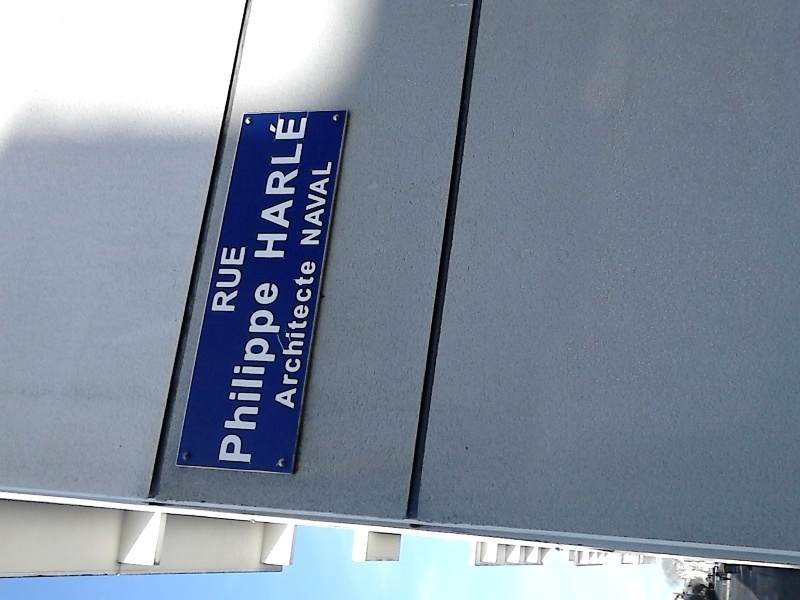text: (273, 280, 289, 466), (257, 280, 272, 466), (289, 258, 304, 411), (273, 117, 288, 261), (289, 117, 304, 261), (274, 258, 288, 411), (305, 258, 318, 411), (321, 162, 334, 247), (225, 247, 240, 313), (305, 117, 311, 261), (311, 162, 320, 247), (252, 280, 256, 466), (269, 117, 272, 261), (241, 247, 246, 313), (223, 247, 224, 313)
